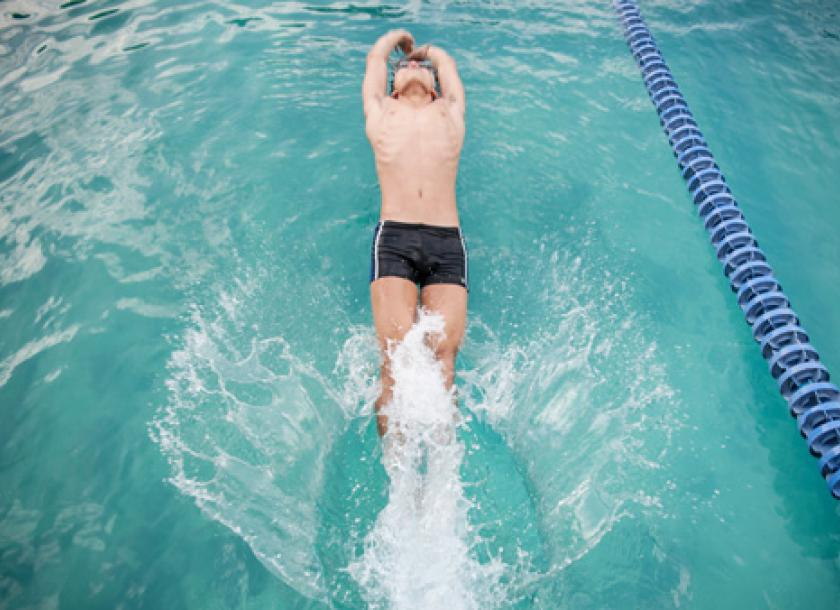human: (360, 25, 463, 449)
